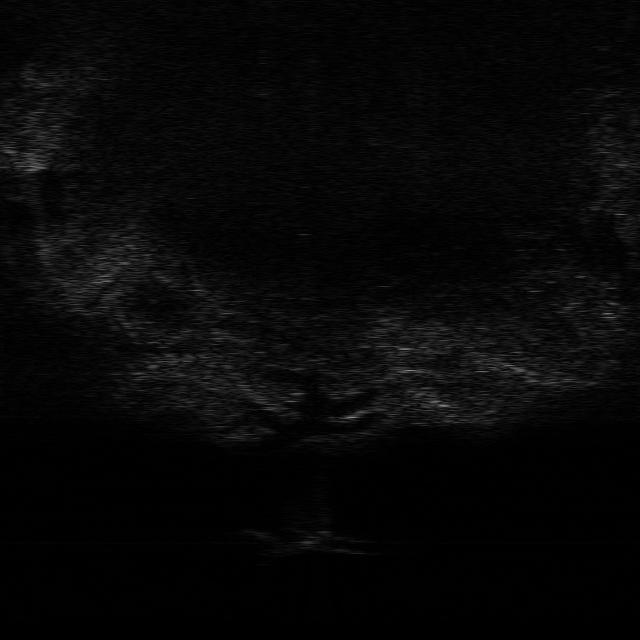plane: (239, 524, 375, 556)
